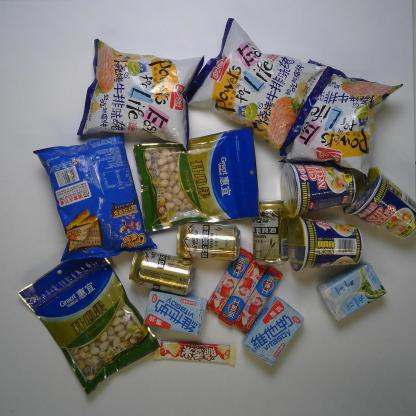Alcohol: (125, 245, 196, 295), (174, 223, 244, 262), (252, 196, 290, 266)
Candy: (203, 246, 254, 316), (217, 258, 269, 324), (236, 262, 284, 331)
Chocolate: (148, 335, 238, 368)
Dried Fruit: (16, 244, 164, 398), (132, 124, 262, 235)
Instant Noodles: (340, 164, 416, 240), (286, 206, 368, 275), (280, 154, 360, 219)
Milk: (241, 297, 303, 368), (319, 263, 388, 324), (140, 284, 212, 341)
Puffed Food: (183, 17, 334, 164), (31, 134, 158, 262), (276, 60, 404, 183), (76, 38, 206, 153)
